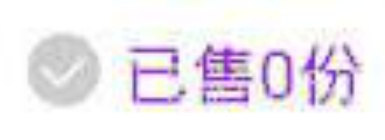CheckBox: (1, 1, 384, 139)
